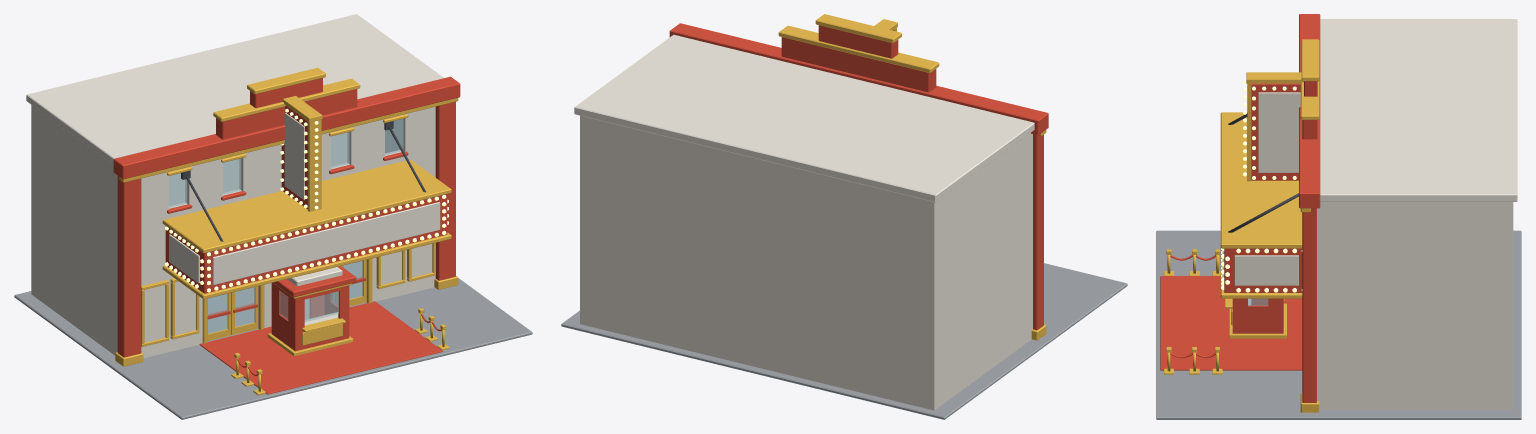
The model's file is classic-cinema-front.glb.
3 views of the same model, side by side, from view 1: azimuth 30°, elevation 25°; view 2: azimuth 150°, elevation 25°; view 3: azimuth 270°, elevation 25° (orthographic). The views are drawn at different scales.
Visible parts, largest first — view 1: Roof, Wall_Left, Sidewalk, Facade, Marquee_TopTrim, RedCarpet, MarqueeSign_Front, Cornice, Pilaster_L, Marquee_Body, Pilaster_R, Parapet (+32 smaller); view 2: Wall_Back, Roof, Wall_Left, Sidewalk, Cornice, Parapet, Pilaster_L, Wall_Right, Parapet_Trim, Parapet_Top, Parapet_Cap; view 3: Wall_Right, Roof, Sidewalk, RedCarpet, Marquee_TopTrim, BladeSign_Right, Pilaster_R, Cornice, MarqueeSign_Right, Booth_SideR, Marquee_Body, BladeSign_Body (+8 smaller).
Boxes of the visible parts, x1,y1,x2,y2 form: Roof: [26, 14, 443, 164]; Wall_Left: [31, 105, 117, 355]; Sidewalk: [14, 261, 532, 419]; Facade: [141, 106, 435, 358]; Marquee_TopTrim: [162, 159, 451, 253]; RedCarpet: [199, 301, 442, 394]; MarqueeSign_Front: [212, 202, 440, 284]; Cornice: [113, 76, 460, 179]; Pilaster_L: [117, 176, 141, 357]; Marquee_Body: [165, 194, 447, 293]; Pilaster_R: [435, 101, 455, 280]; Parapet: [216, 89, 357, 139]; Wall_Back: [587, 117, 926, 408]; Roof: [574, 34, 1034, 202]; Wall_Left: [927, 133, 1032, 410]; Sidewalk: [561, 263, 1127, 419]; Cornice: [669, 23, 1048, 135]; Parapet: [781, 37, 936, 92]; Pilaster_L: [1033, 134, 1043, 330]; Wall_Right: [580, 115, 587, 325]; Parapet_Trim: [778, 25, 939, 72]; Parapet_Top: [818, 25, 898, 58]; Parapet_Cap: [815, 14, 901, 42]; Wall_Right: [1317, 202, 1513, 409]; Roof: [1320, 19, 1517, 201]; Sidewalk: [1156, 230, 1521, 419]; RedCarpet: [1160, 276, 1302, 370]; Marquee_TopTrim: [1220, 112, 1302, 248]; BladeSign_Right: [1258, 92, 1300, 172]; Pilaster_R: [1302, 208, 1316, 402]; Cornice: [1299, 14, 1320, 208]; MarqueeSign_Right: [1234, 255, 1298, 285]; Booth_SideR: [1236, 298, 1280, 333]; Marquee_Body: [1224, 248, 1302, 292]; BladeSign_Body: [1251, 83, 1300, 180].
Bounding box in the file's own units: 52 × 34.9 × 43.
